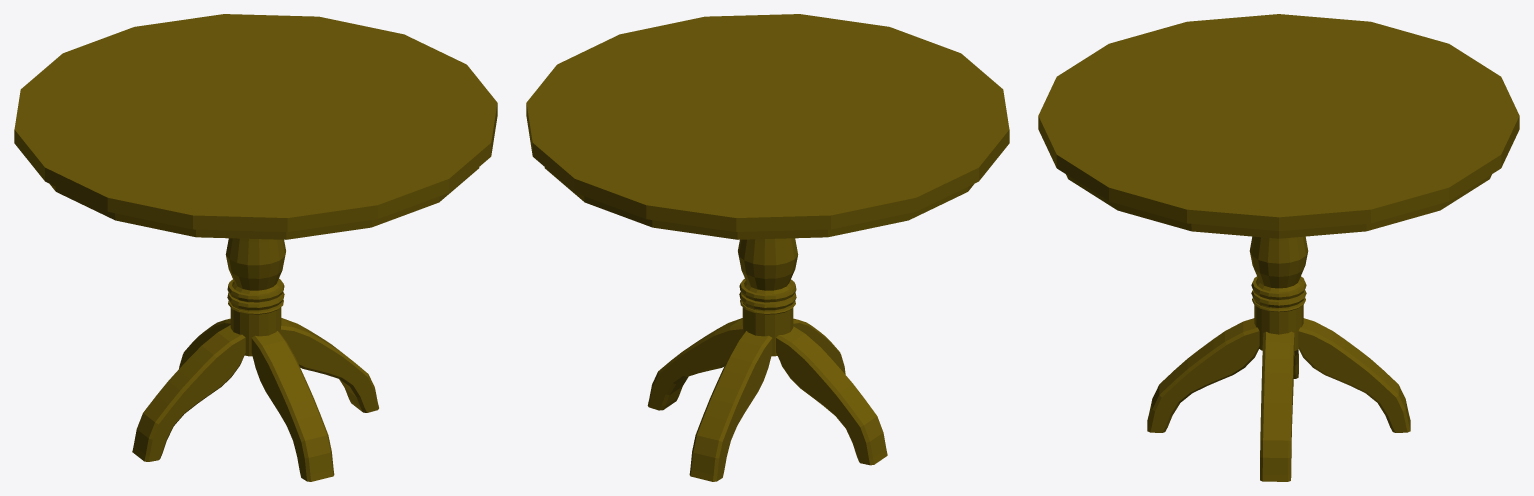
The model's file is mesa1.fbx.
The picture shows the model from 3 angles, left to right: view 1: azimuth 30°, elevation 25°; view 2: azimuth 150°, elevation 25°; view 3: azimuth 270°, elevation 25°; orthographic projection.
Parts seen in each view (by area): view 1: mesa1; view 2: mesa1; view 3: mesa1.
Part boxes in pixels (<box>): mesa1: <box>14,14,497,481</box>; mesa1: <box>526,14,1009,481</box>; mesa1: <box>1038,14,1519,481</box>.
Bounding box in the file's own units: 1.34 × 0.9543 × 1.34.
